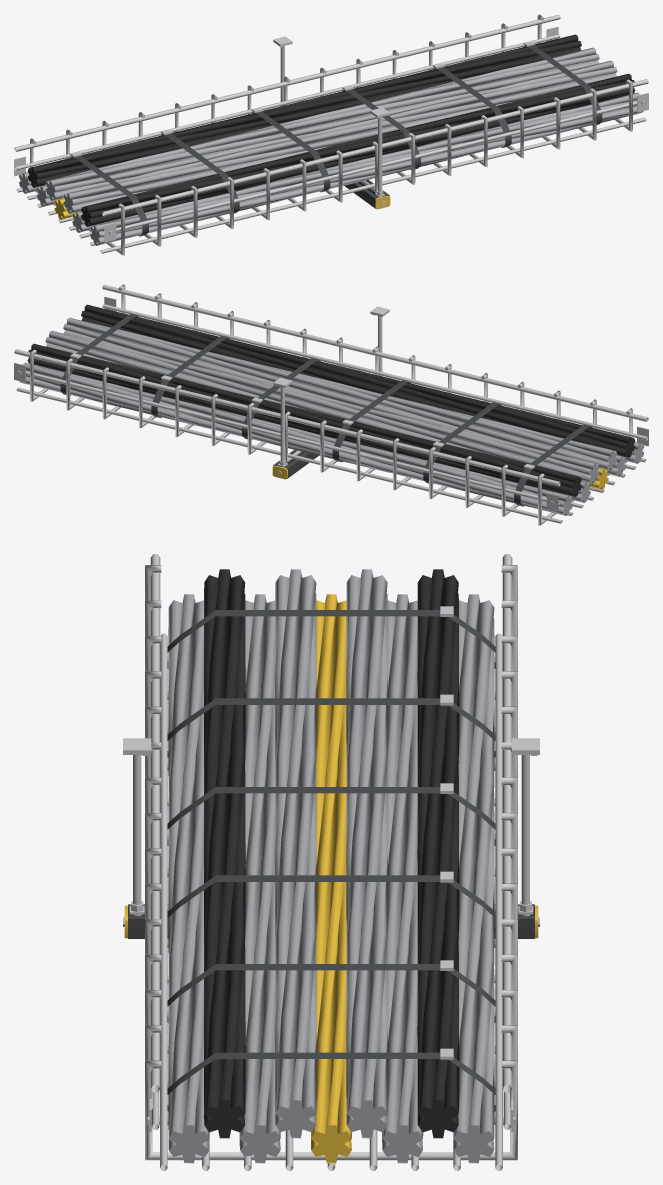
File: dc-tray-straight-full.8d5af337.glb
The picture shows the model from 3 angles, top to bottom: view 1: azimuth 30°, elevation 25°; view 2: azimuth 150°, elevation 25°; view 3: azimuth 270°, elevation 25°; orthographic projection. The views are drawn at different scales.
Visible parts, largest first — view 1: Body.003; view 2: Body.003; view 3: Body.003.
Part boxes in pixels (x1,y1,x2,y2): Body.003: (14,14,648,255); Body.003: (14,284,648,525); Body.003: (123,554,539,1170).
Bounding box in the file's own units: 1.5 × 0.2479 × 0.4979.
